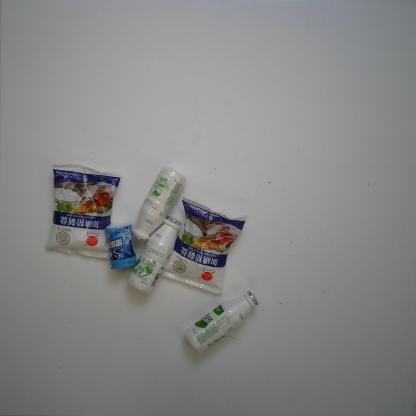Gum: (104, 220, 138, 272)
Milk: (183, 290, 260, 355), (127, 214, 183, 295), (130, 165, 187, 244)
Seasoner: (160, 196, 249, 296), (44, 162, 122, 260)
